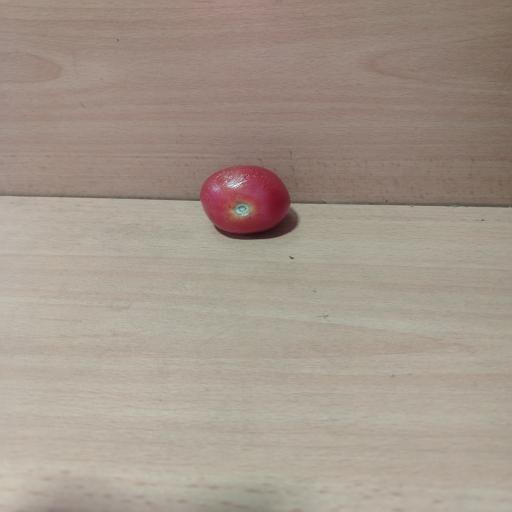spoiled: (200, 166, 290, 234)
